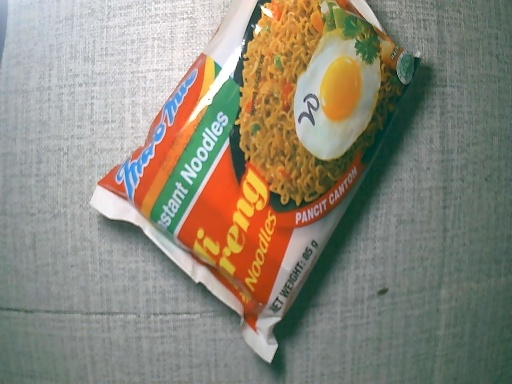plastic: (88, 1, 419, 367)
